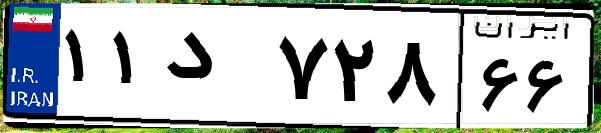1: (57, 26, 110, 100), (110, 28, 158, 98)
2: (330, 28, 385, 110)
6: (475, 38, 525, 113), (525, 38, 570, 115)
7: (270, 28, 330, 110)
8: (385, 28, 445, 110)
د: (158, 20, 270, 120)
